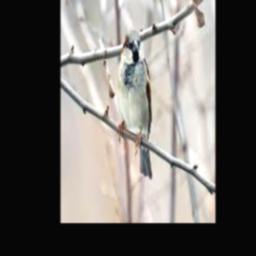Sparrow: (117, 29, 153, 179)
